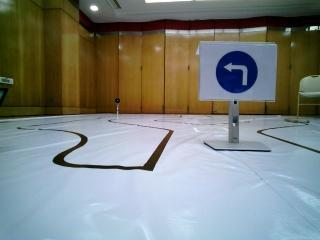left: (206, 48, 269, 97)
